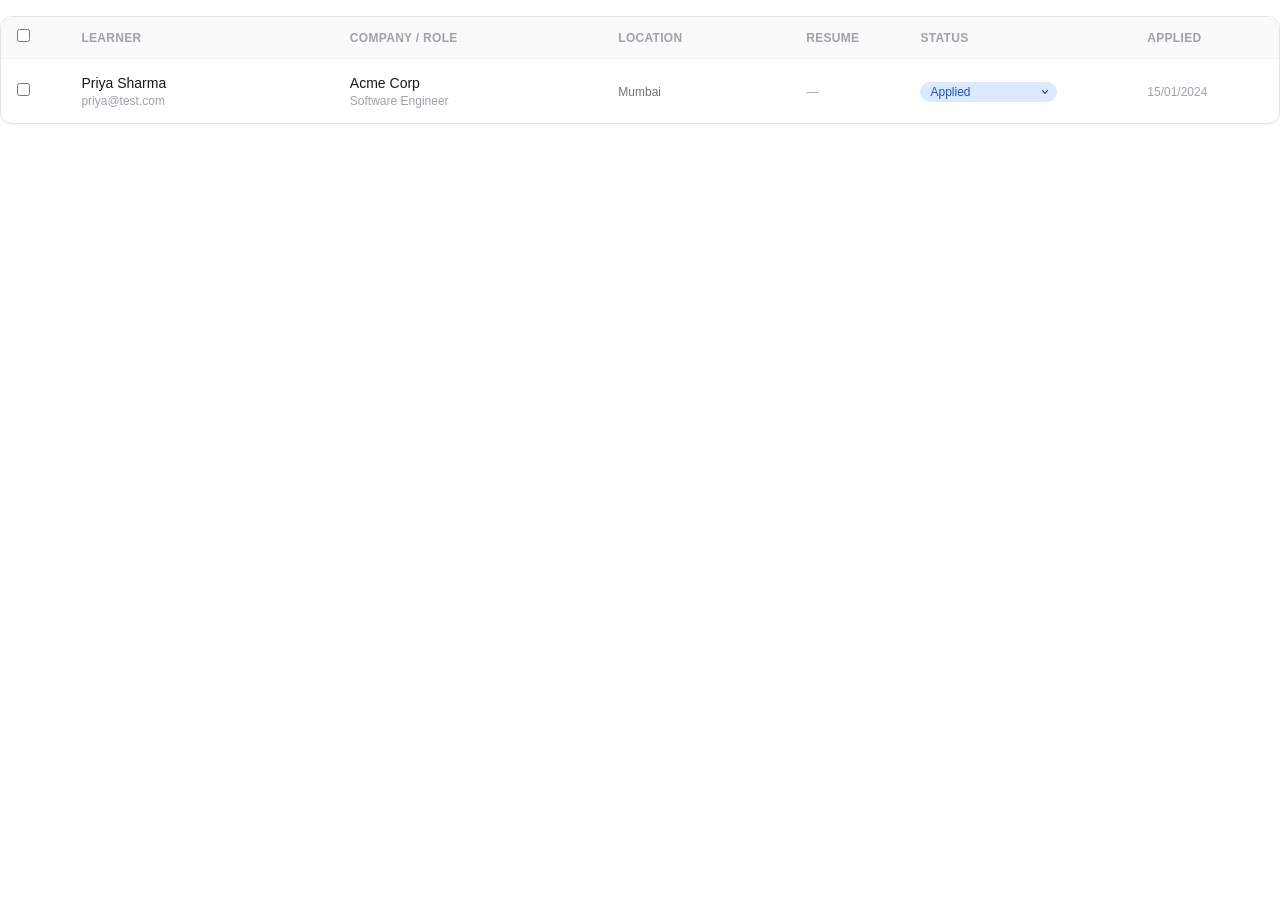
Scenario: ApplicationsList › modal confirm without selecting a reason shows validation error
Select "Not Shortlisted" in the dropdown at (989, 92), box top-left (920, 82), bottom-right (1058, 102)
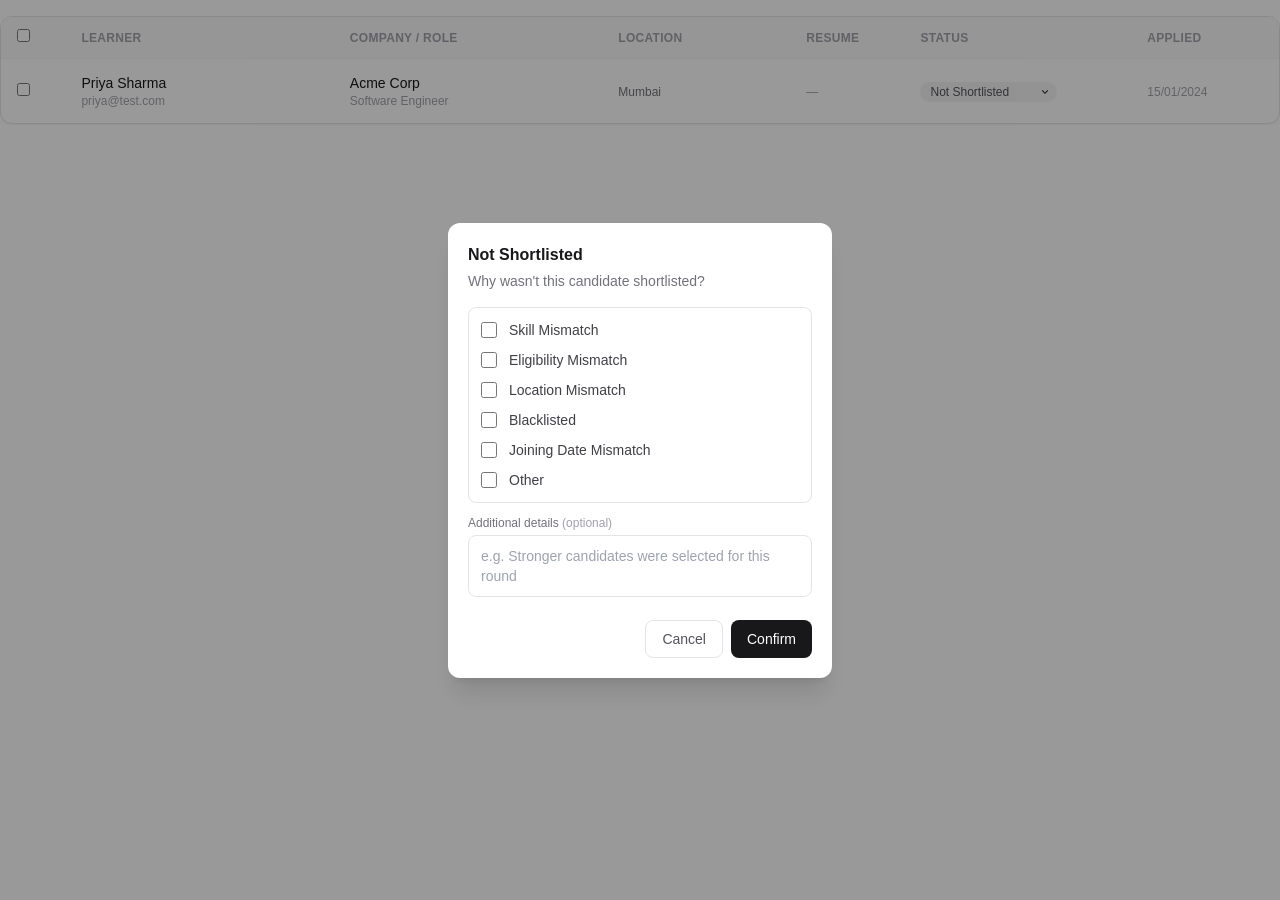
Click the button "Confirm" at (772, 638), box top-left (731, 620), bottom-right (812, 658)
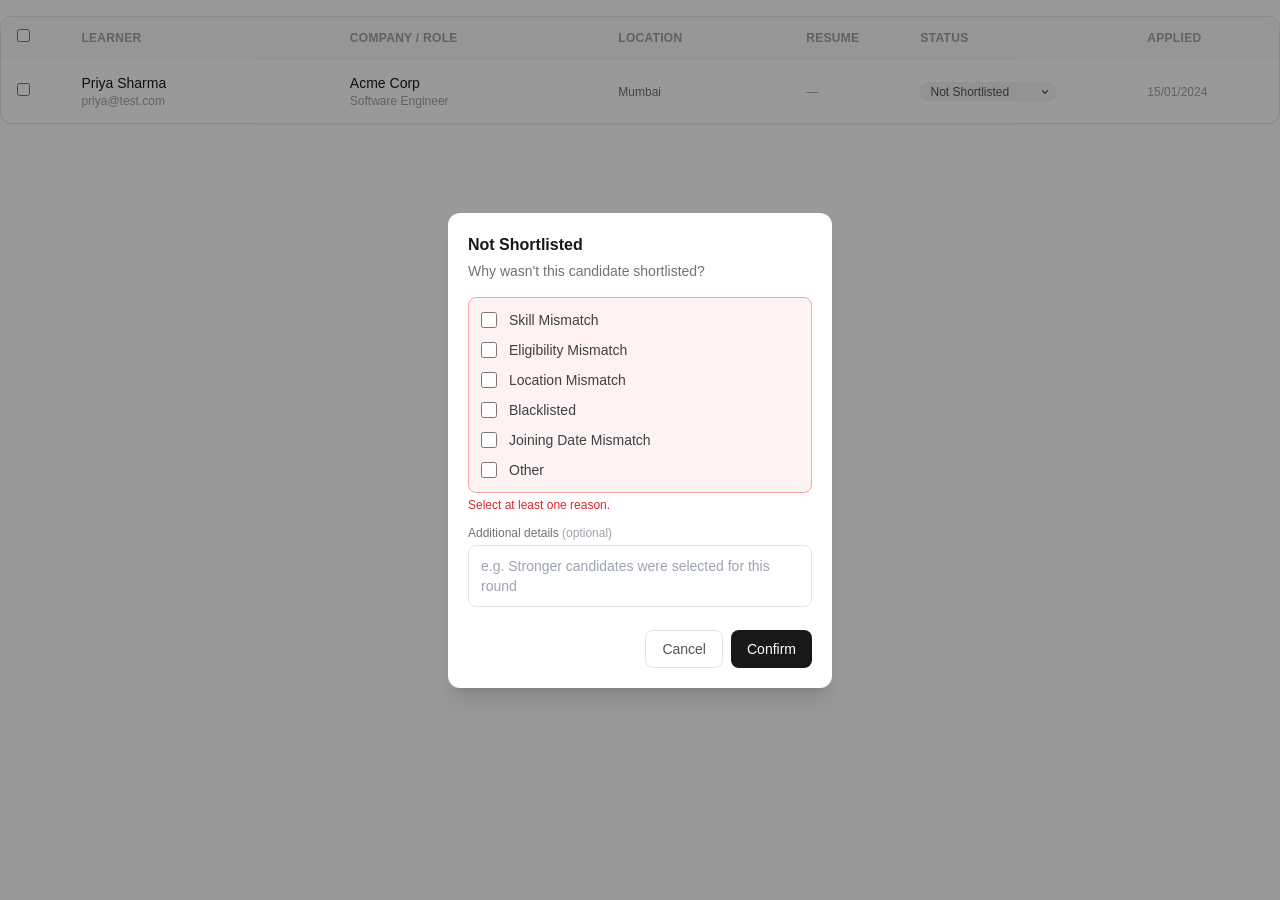
Expected: the text "Select at least one reason." is shown, top-left (468, 498), bottom-right (610, 512)
